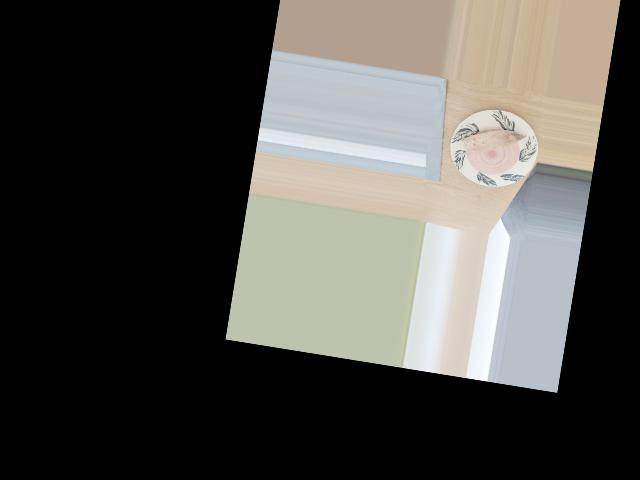sweet_potato: (464, 119, 522, 161)
